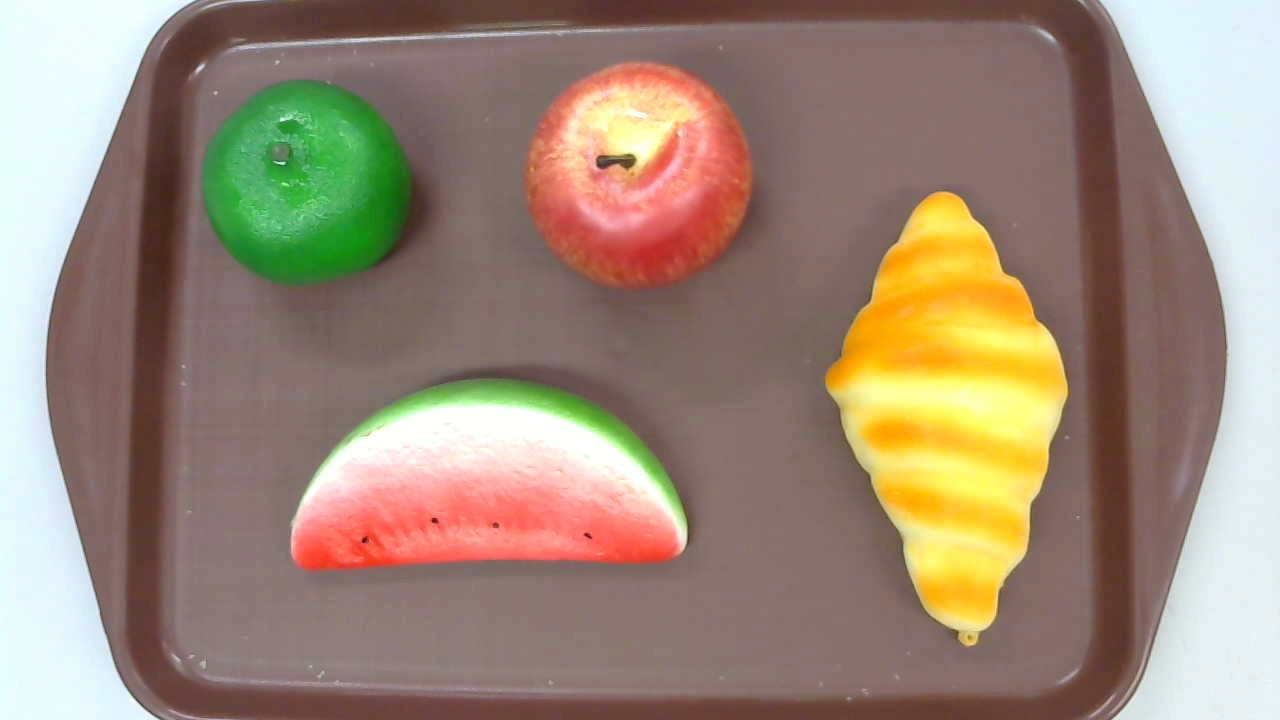croissant: (825, 190, 1068, 645)
green orange: (200, 80, 412, 285)
red apple: (523, 61, 752, 292)
water melon: (290, 378, 690, 570)
